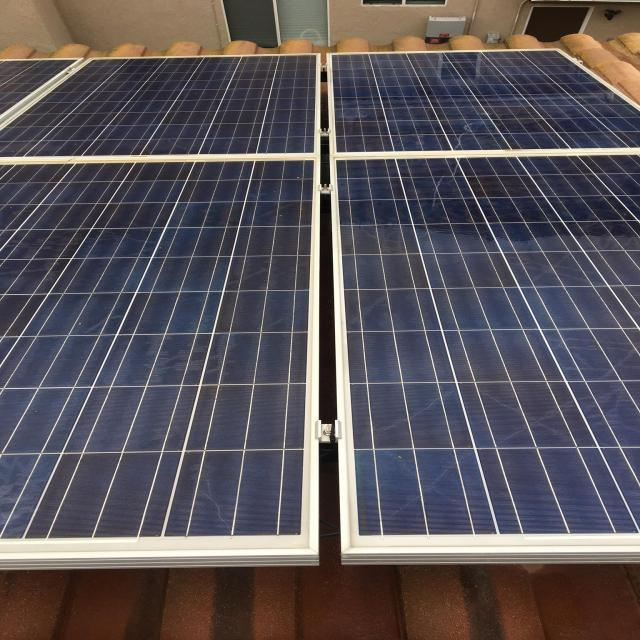no faulty: (2, 160, 303, 536), (337, 159, 635, 533), (3, 58, 316, 149), (341, 54, 640, 146)
